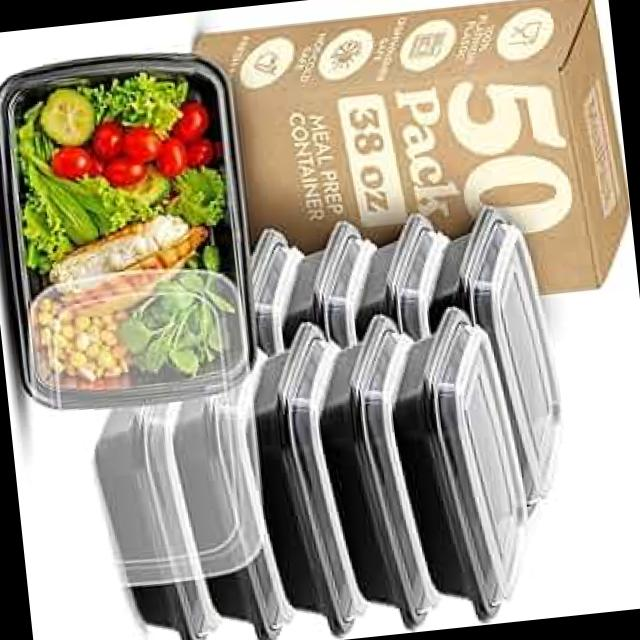plastic_box: (89, 192, 618, 640), (0, 27, 292, 452)
